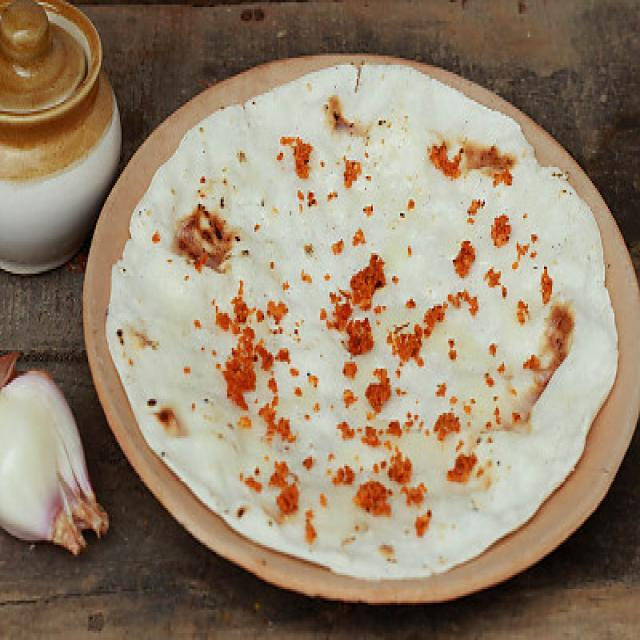ROTI: (109, 65, 608, 573)
